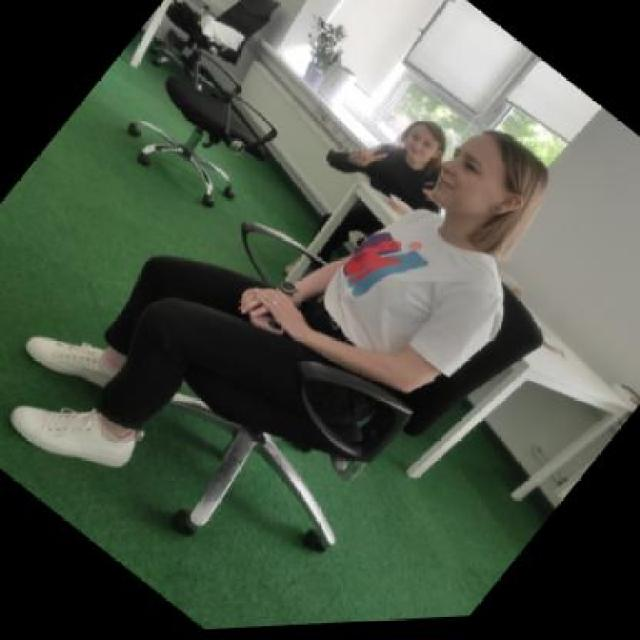chair: (74, 122, 572, 636), (103, 31, 302, 238), (125, 0, 329, 142)
